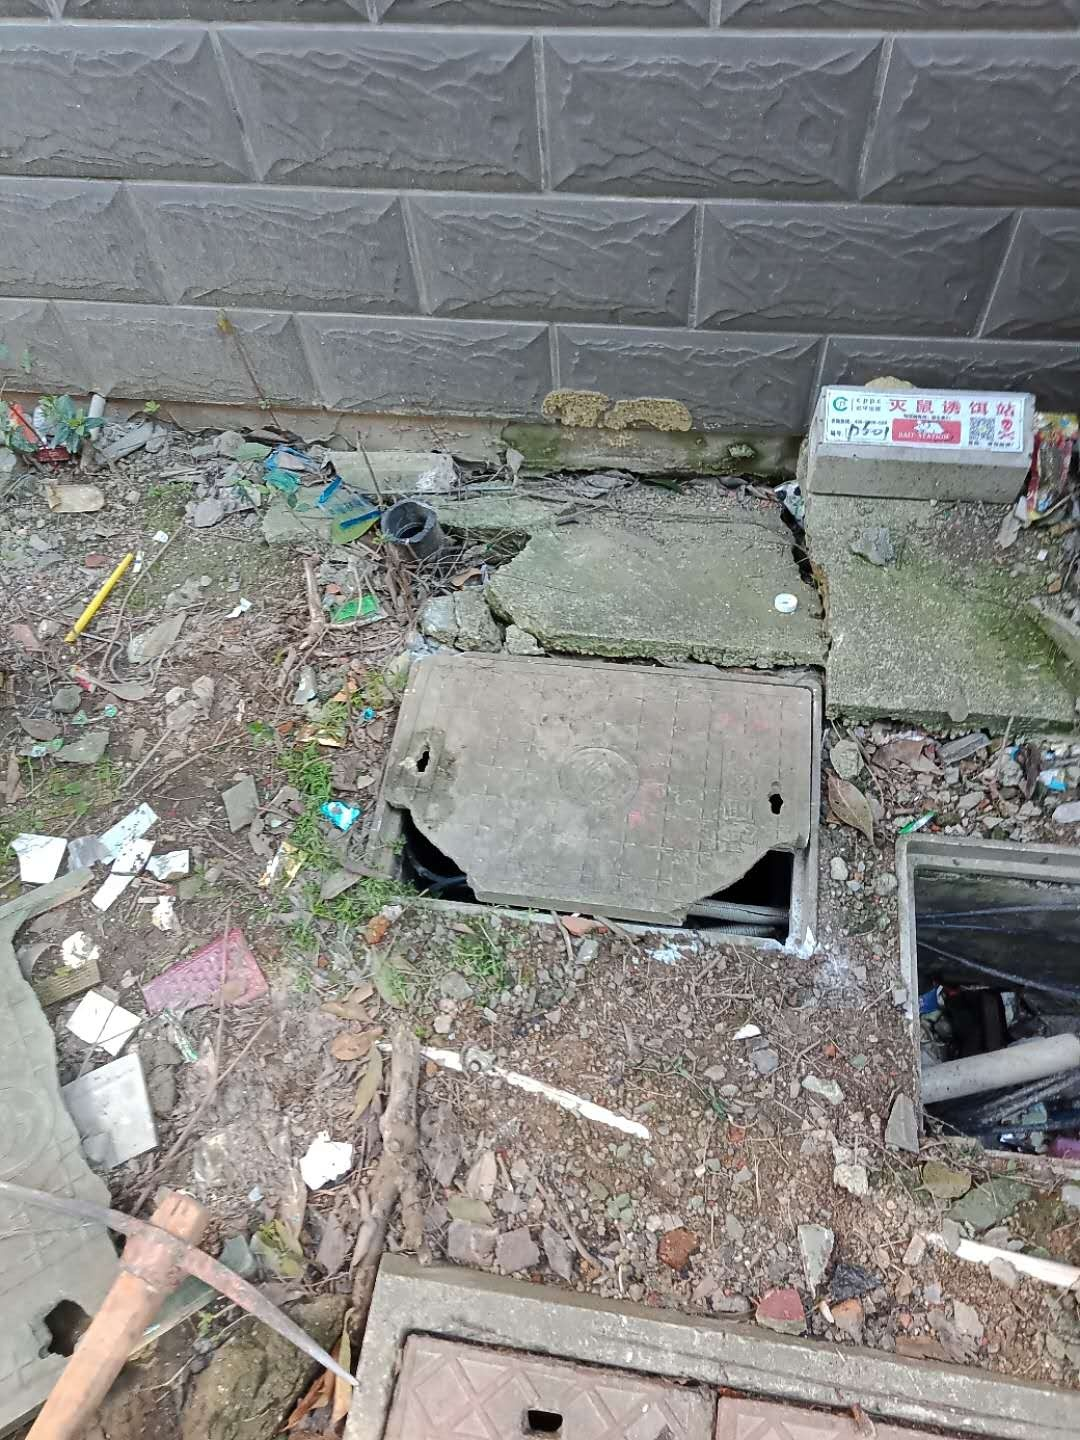broke: (349, 645, 826, 960)
